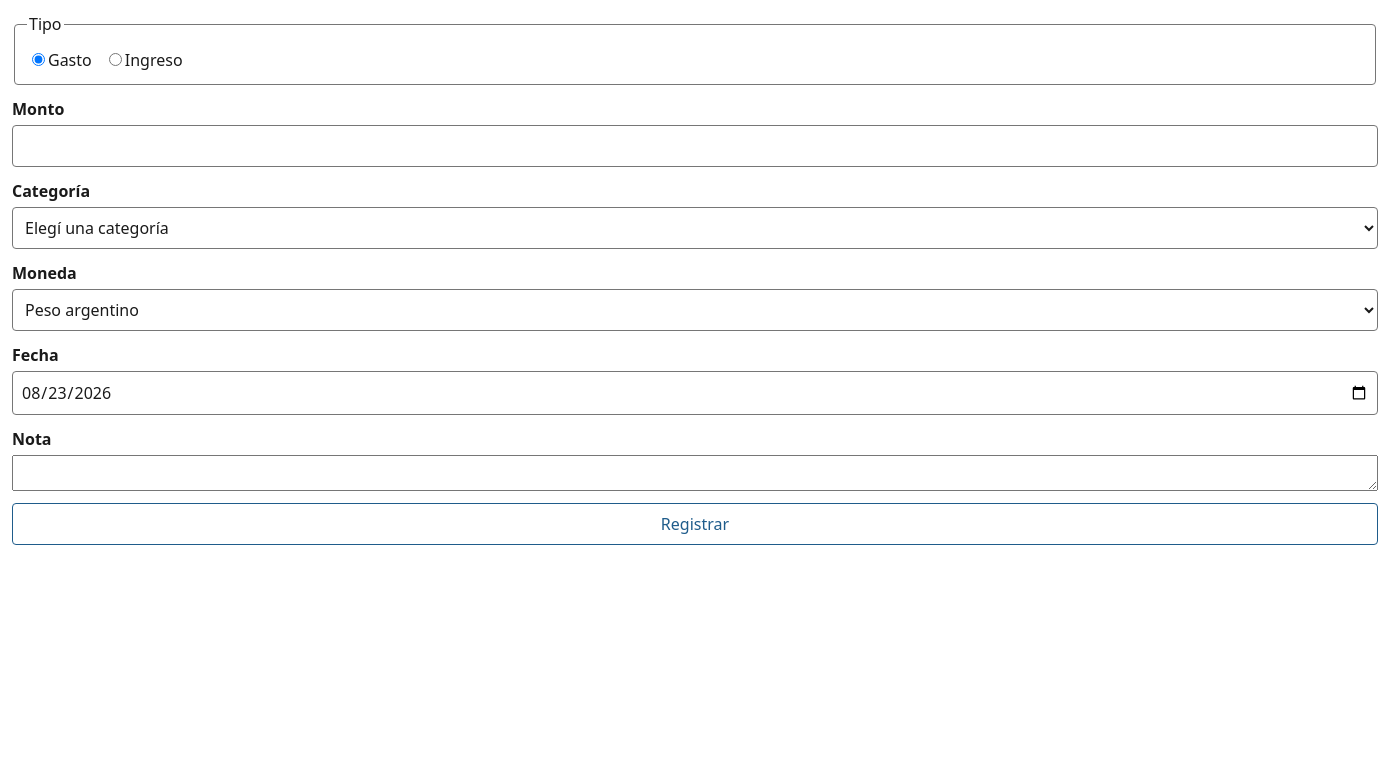
it: validación en el formulario › enruta un error del servidor al mismo lugar que uno del cliente
In the number field labelled "Monto": (695, 146) [12,125,1378,167], type "100"
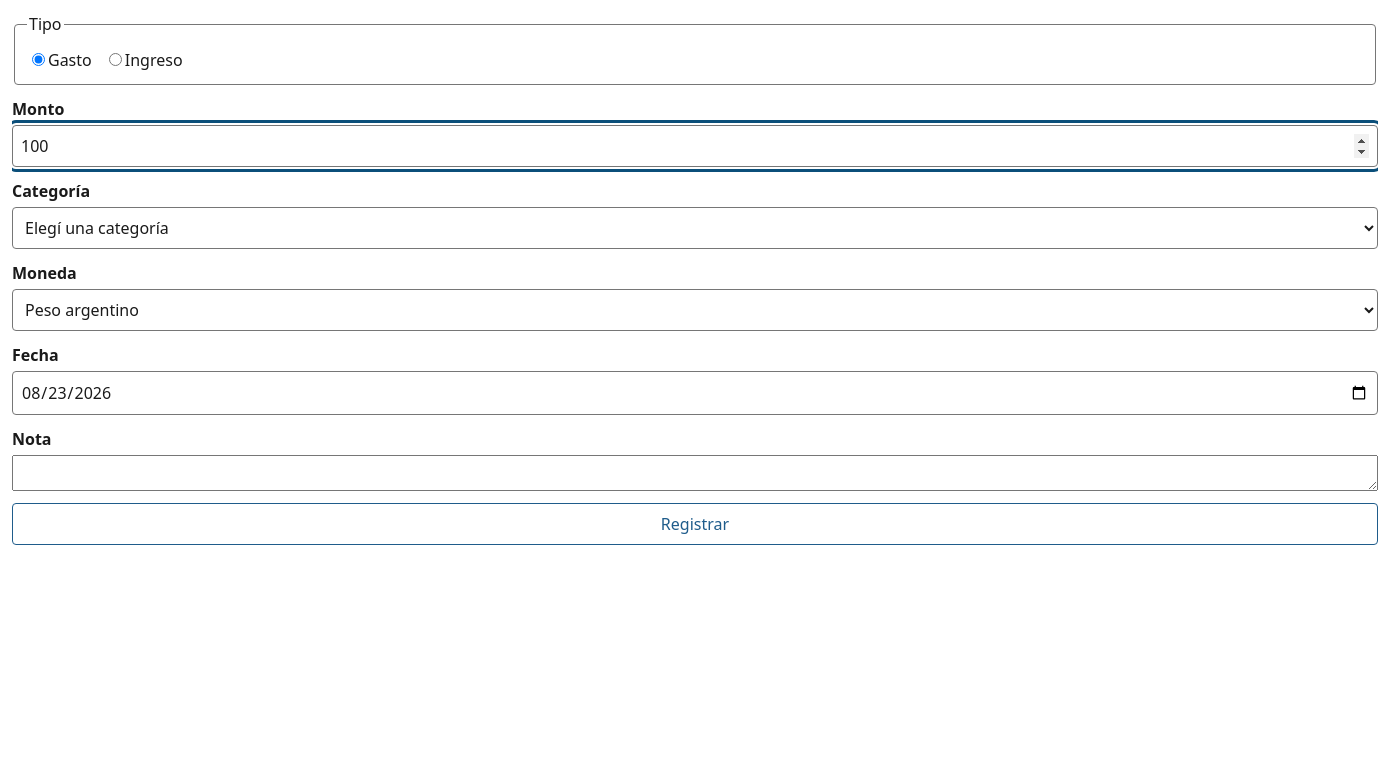
Select "Comida" in the dropdown labelled "Categoría": (695, 228) [12,207,1378,249]
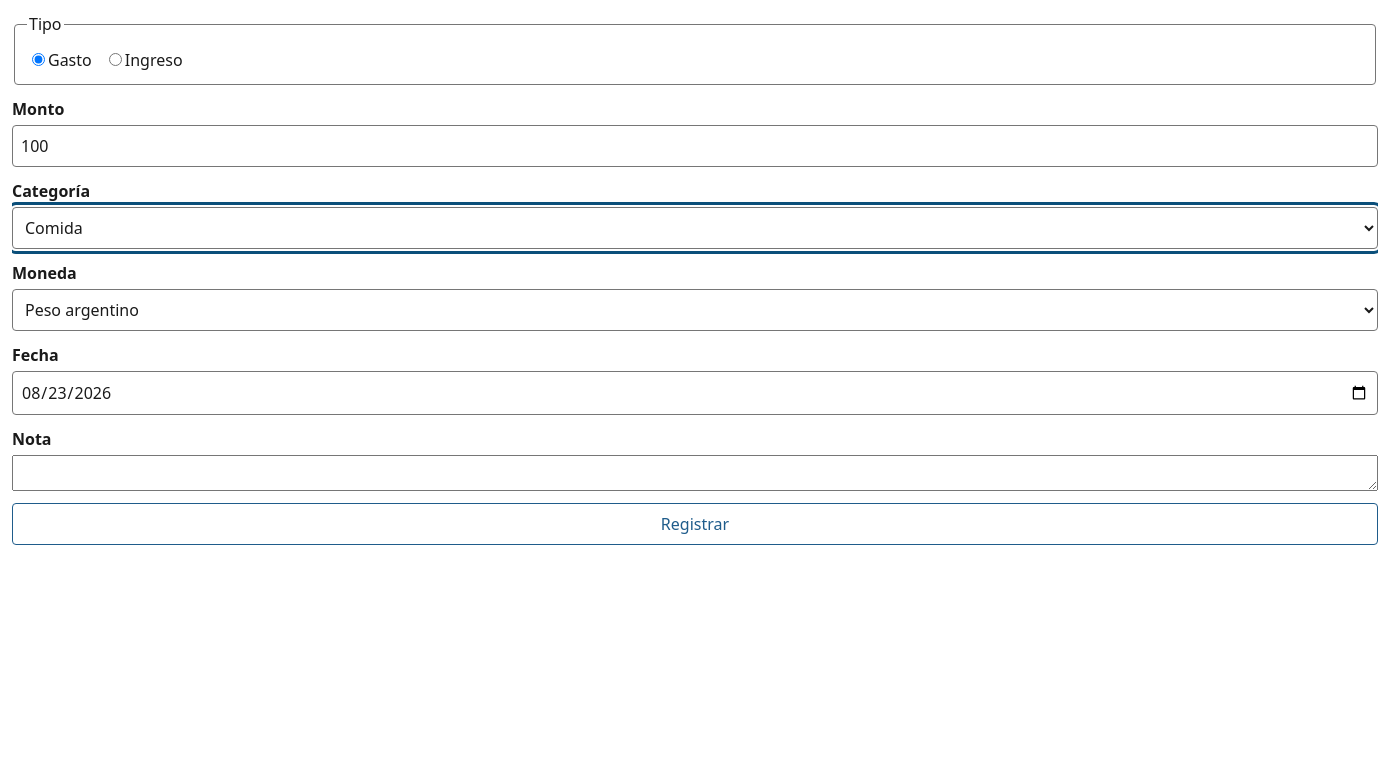
Click the button "Registrar": (695, 524) [12,503,1378,545]
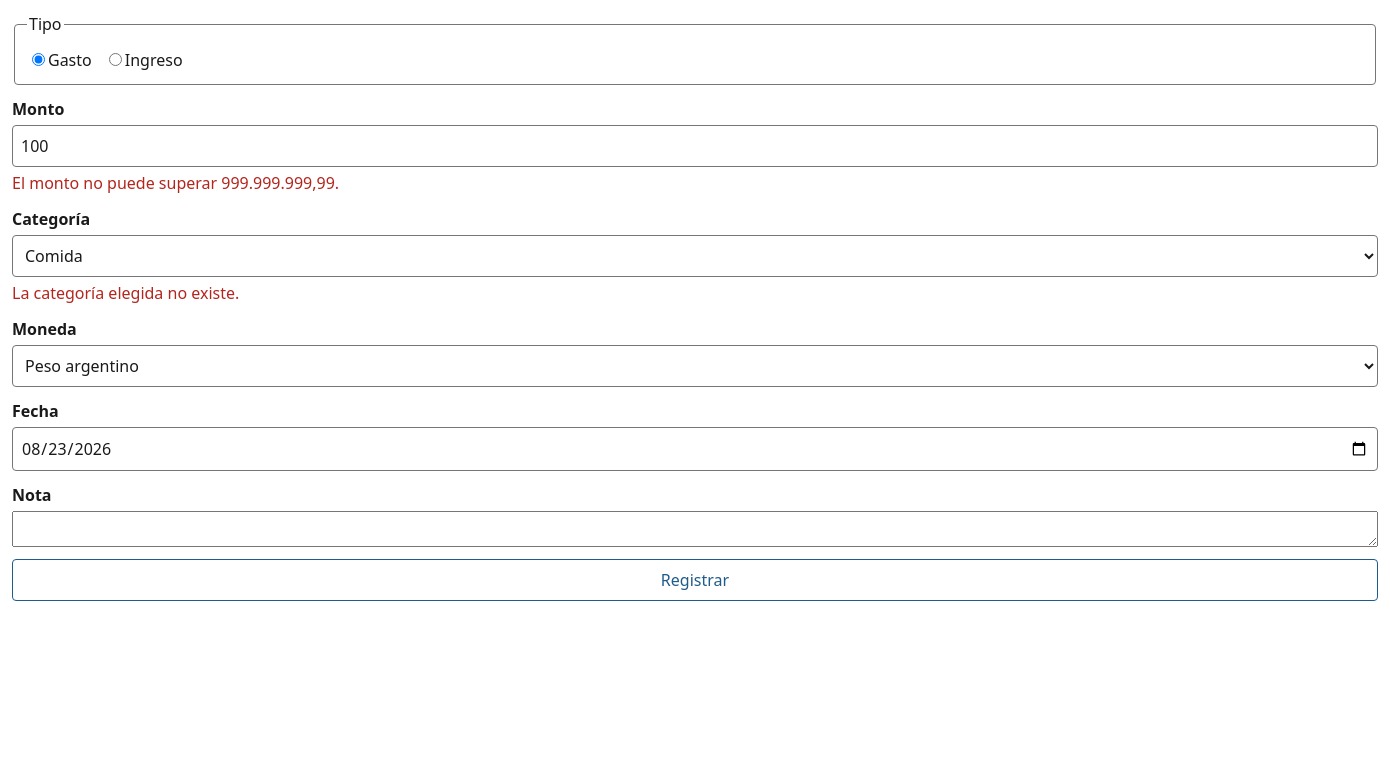
Now the message with id "monto-error" shows "999.999.999,99", box [12,172,339,194]
Now the message with id "categoriaId-error" shows "no existe", box [12,282,239,304]
